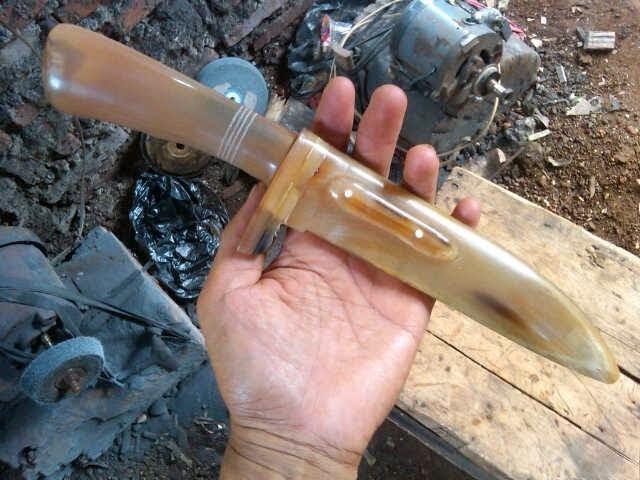faca: (42, 24, 618, 383)
